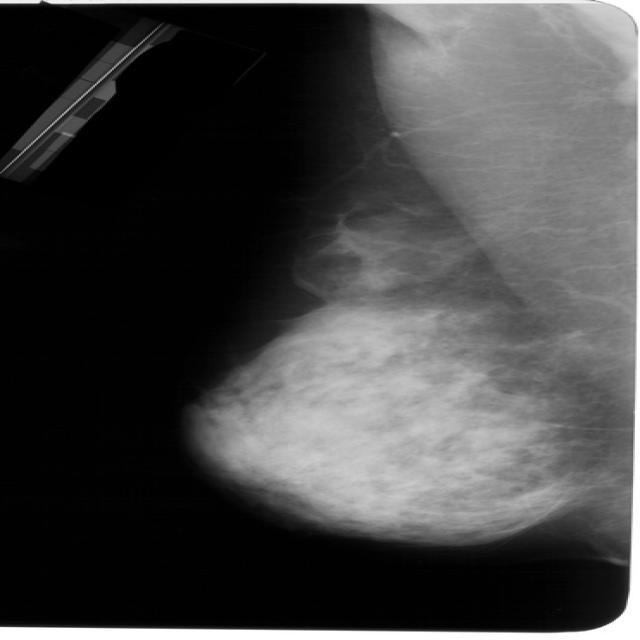tumour: (454, 369, 486, 389)
